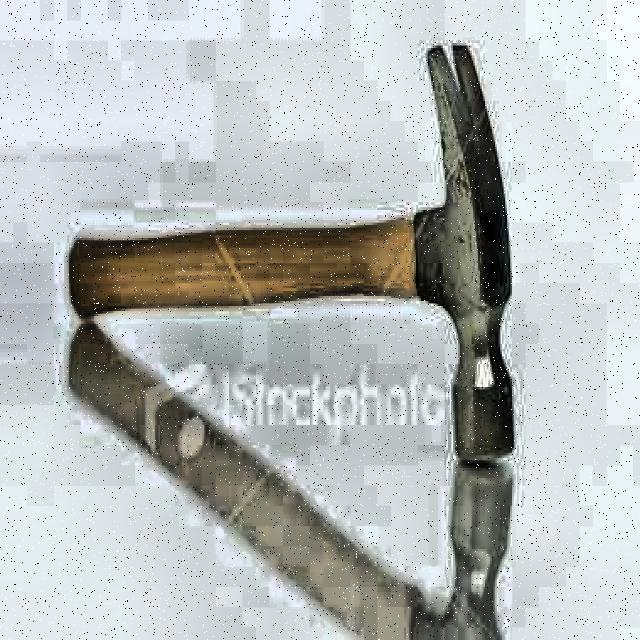hammer: (67, 39, 515, 469)
